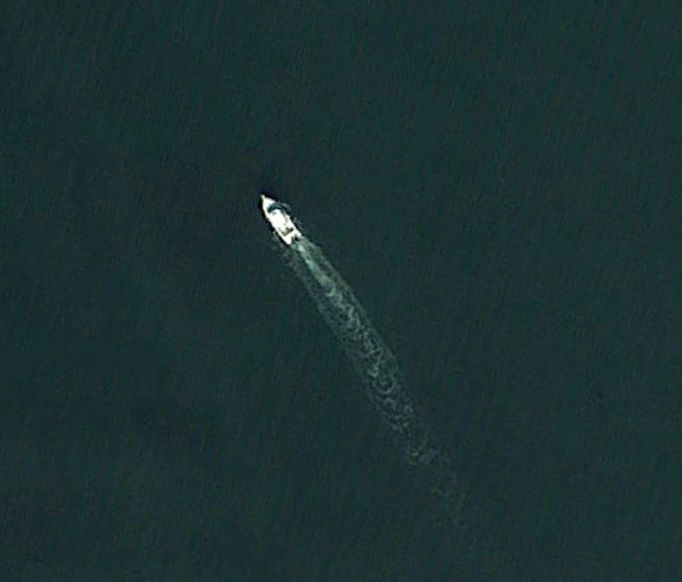boat: (257, 191, 305, 248)
